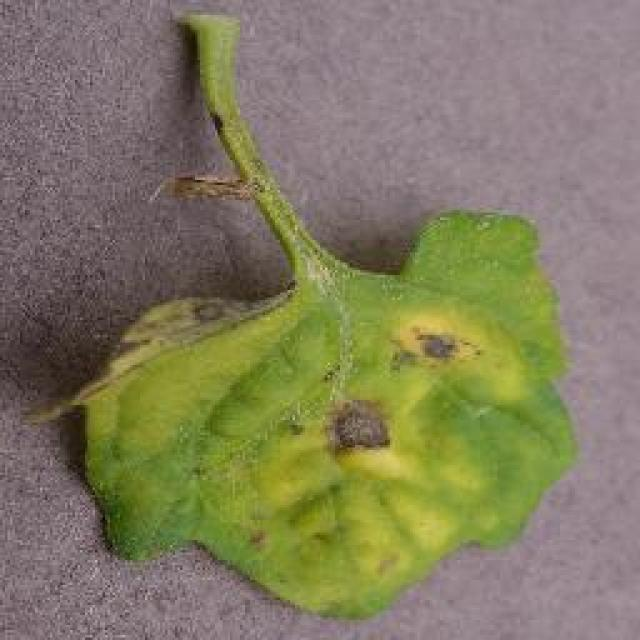Tomato___Septoria_leaf_spot: (32, 15, 568, 612)
